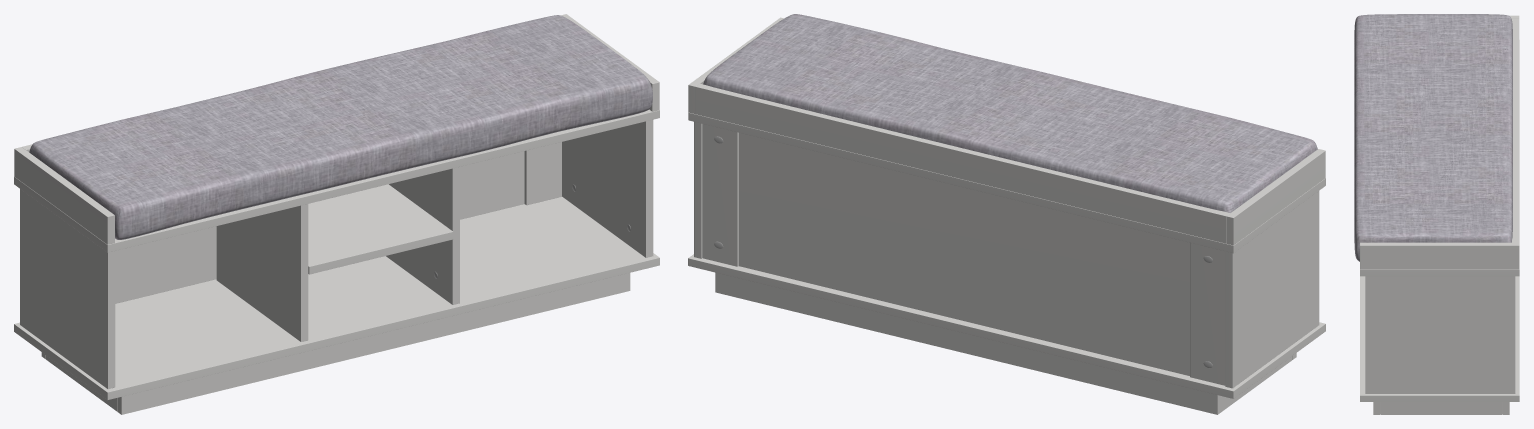
File: sofa_B07DBDZ4SG.glb
3 renders of one model, left to right at view 1: azimuth 30°, elevation 25°; view 2: azimuth 150°, elevation 25°; view 3: azimuth 270°, elevation 25°, orthographic. The views are drawn at different scales.
Visible parts, largest first — view 1: RootNode; view 2: RootNode; view 3: RootNode.
Part boxes in pixels (x1=…): RootNode: x1=14, y1=14, x2=659, y2=414; RootNode: x1=688, y1=14, x2=1325, y2=414; RootNode: x1=1354, y1=14, x2=1519, y2=414.
Bounding box in the file's own units: 1.2 × 0.4526 × 0.3632.
1 material, 1 textured.
